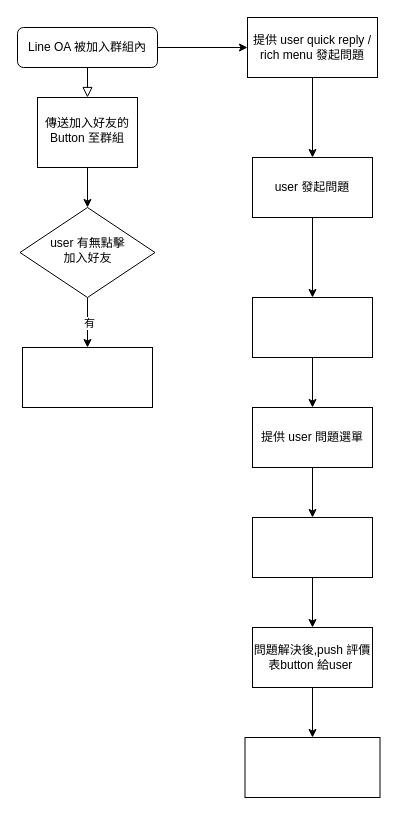
Image size: 398x815. Some labels were removed from this diagram. Each missing label, with the centre of its shape:
"user 填寫完畢後, 關閉工單,紀錄完成時間" goes at pixel 312 767.
"將 user 的問題分類, 提供RD解決" goes at pixel 312 547.
"將user的userID, 提問的time寫入csv" goes at pixel 312 327.
